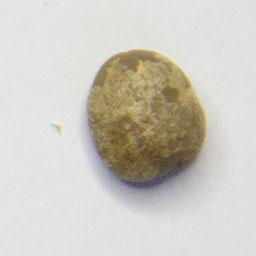premium: (83, 45, 209, 187)
